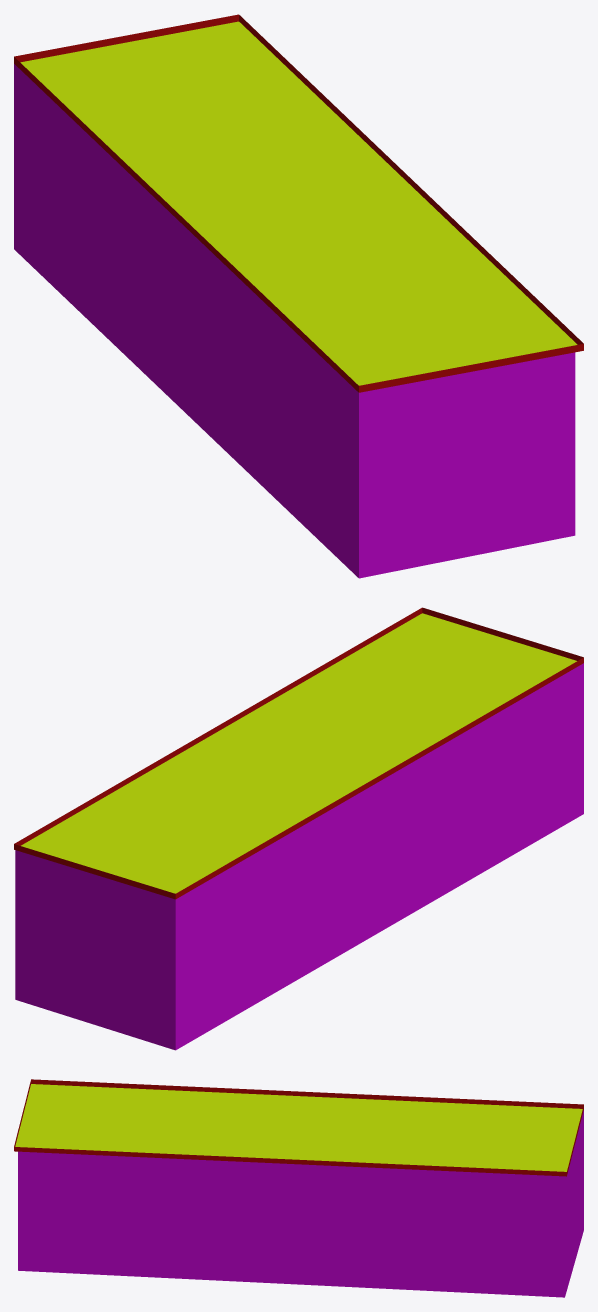
Rendered from bgj_411.glb.
3 views of the same model, one above another, from view 1: azimuth 30°, elevation 25°; view 2: azimuth 150°, elevation 25°; view 3: azimuth 270°, elevation 25° (orthographic). The views are drawn at different scales.
Visible parts, largest first — view 1: bgj_411; view 2: bgj_411; view 3: bgj_411.
Part boxes in pixels (x1,y1,x2,y2): bgj_411: (14, 14, 583, 578); bgj_411: (14, 607, 583, 1050); bgj_411: (14, 1079, 583, 1297).
Size of the model in its own units: 15.18 by 9.62 by 39.51.
